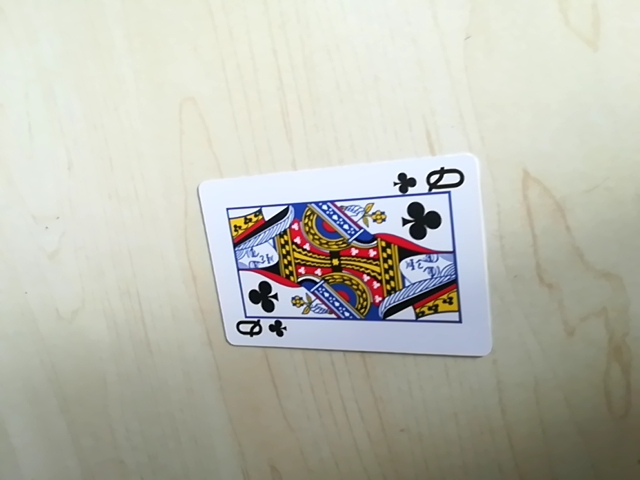mh q: (395, 162, 472, 194), (227, 316, 287, 344)
